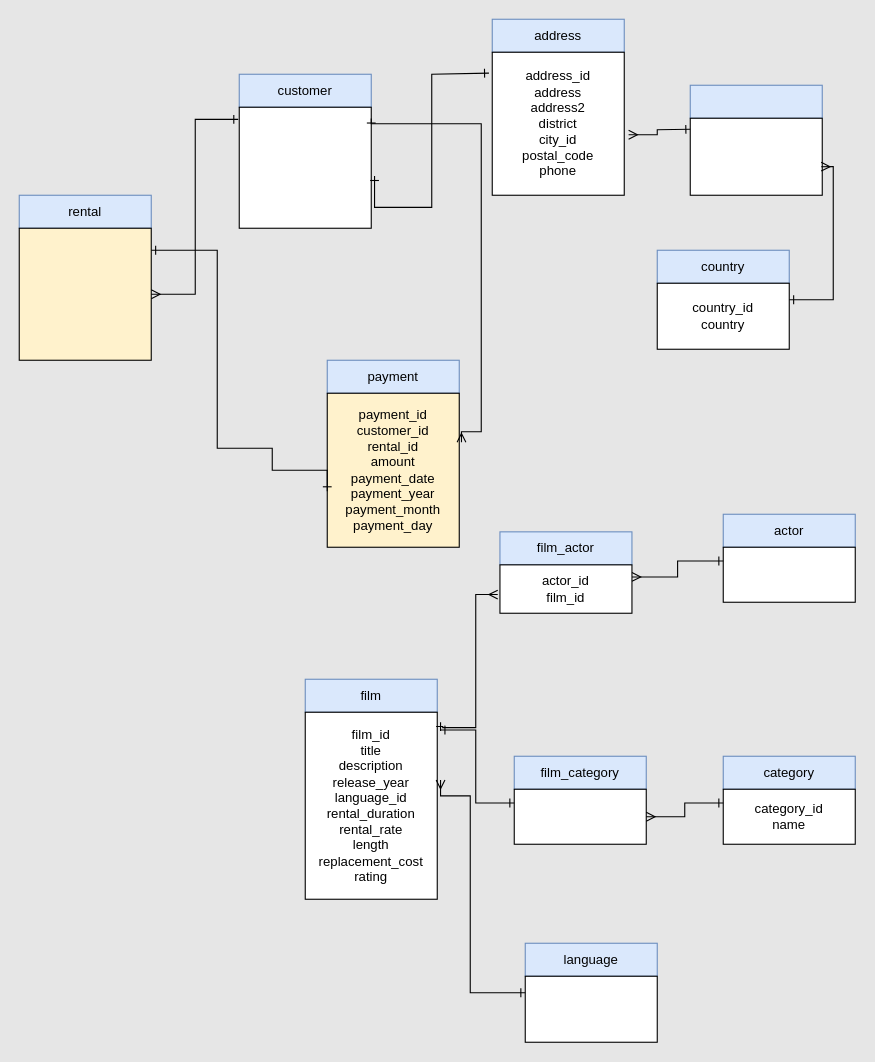
Image size: 875x1062. Some labels were removed from this diagram. The shapes that lost their labels are listed below. From the top down, each one's box as (x1, y1, x2, y2) in pixels, then its label:
(689, 84, 822, 118): city
(238, 106, 371, 228): customer_id full_name email address_id activebool active
(689, 117, 822, 195): city_id city country_id
(18, 227, 151, 360): rental_id rental_date rental_year rental_month rental_day customer_id
(722, 546, 855, 602): actor_id full_name
(513, 788, 646, 844): film_id category_id
(524, 975, 657, 1042): language_id name last_update
